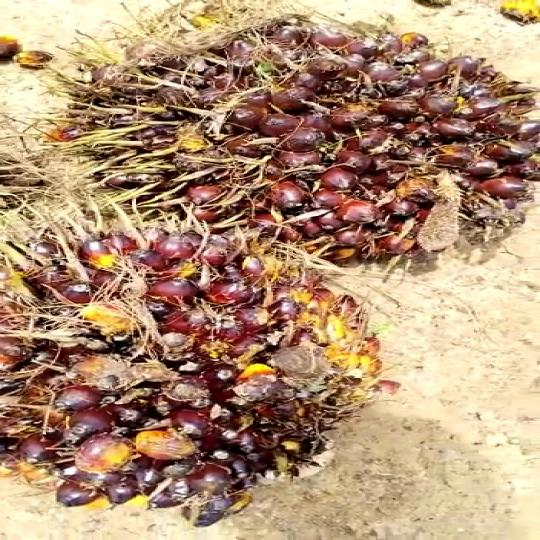masak: (0, 206, 420, 519), (50, 12, 540, 260)
